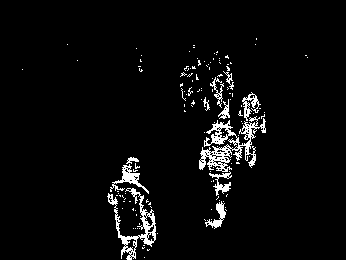person: (109, 154, 157, 260), (201, 113, 241, 230), (239, 96, 267, 170)
